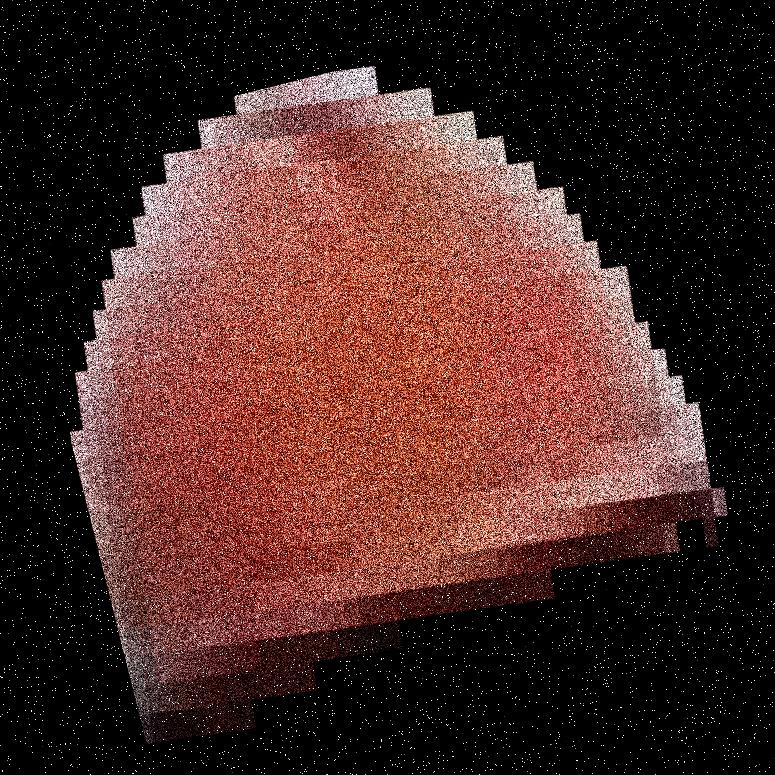Capacete: (218, 0, 612, 774)
